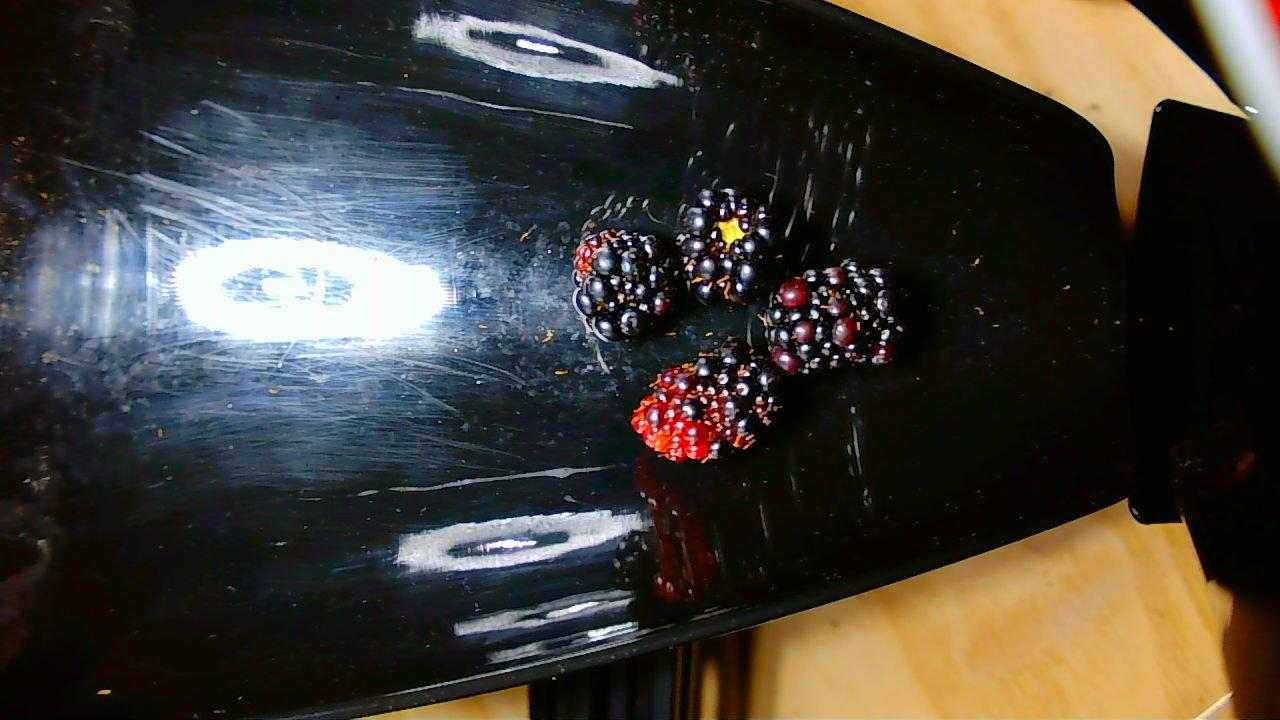berry: (760, 260, 898, 378), (672, 180, 786, 310), (638, 356, 776, 458), (572, 226, 679, 341)
